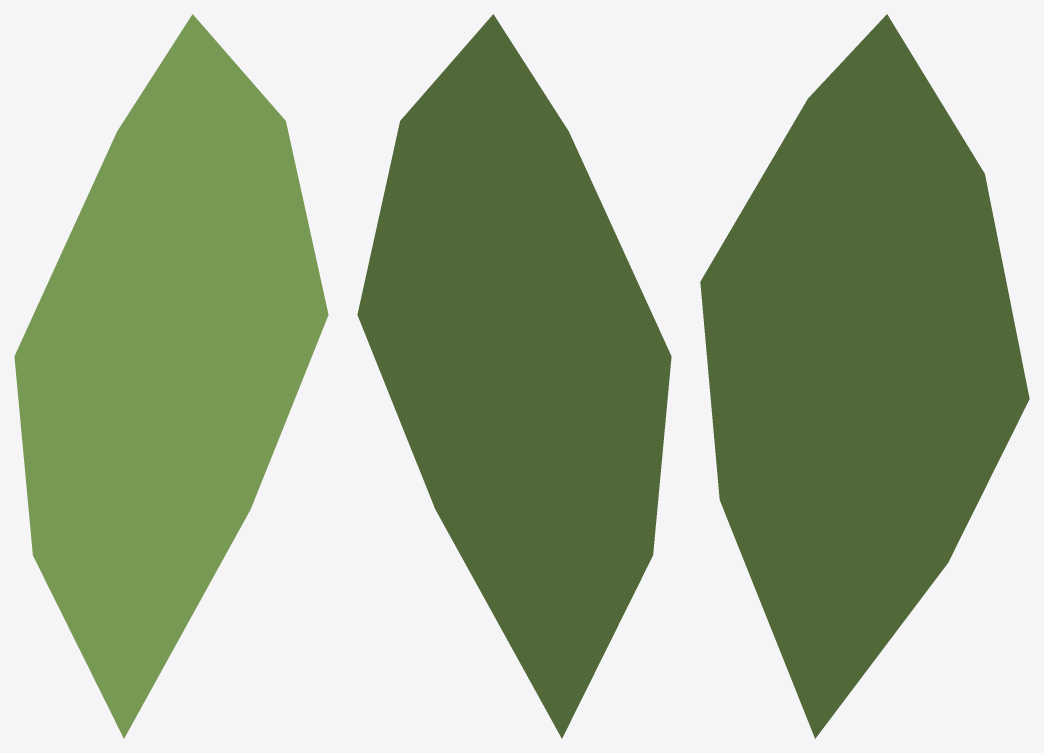
Rendered from LeafBigTree8.glb.
The picture shows the model from 3 angles, left to right: view 1: azimuth 30°, elevation 25°; view 2: azimuth 150°, elevation 25°; view 3: azimuth 330°, elevation 25°; orthographic projection. The views are drawn at different scales.
Parts seen in each view (by area): view 1: Leaf_MidGreen_Bent.090; view 2: Leaf_MidGreen_Bent.090; view 3: Leaf_MidGreen_Bent.090.
Part boxes in pixels (box(x1,y1,x2,y2)): Leaf_MidGreen_Bent.090: box(14, 14, 328, 738); Leaf_MidGreen_Bent.090: box(357, 14, 671, 738); Leaf_MidGreen_Bent.090: box(700, 14, 1029, 738).
Bounding box in the file's own units: 0.1955 × 0.4211 × 0.
